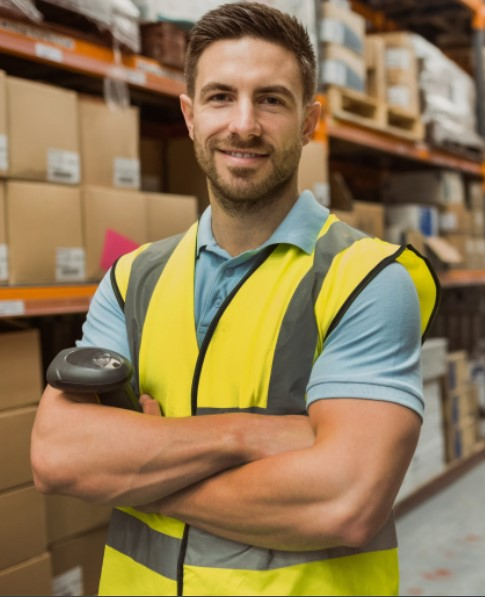worker: (98, 11, 404, 597)
